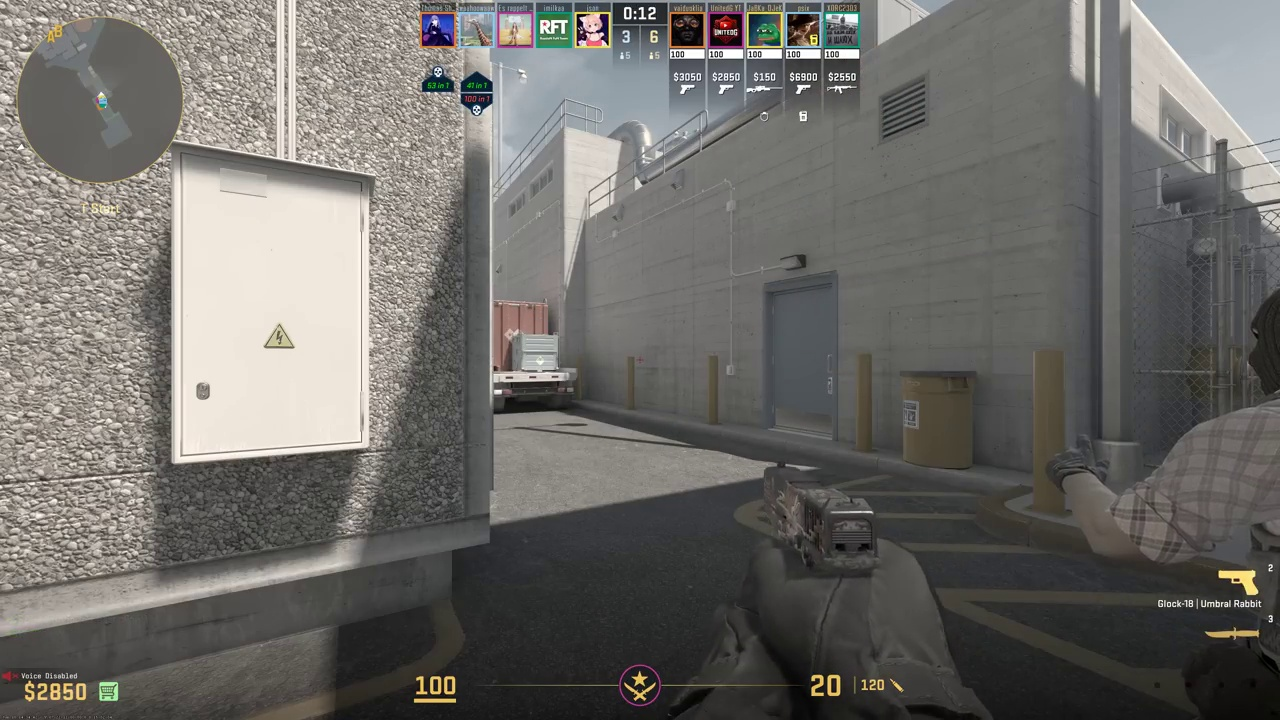Terrorist: (1146, 293, 1280, 719)
